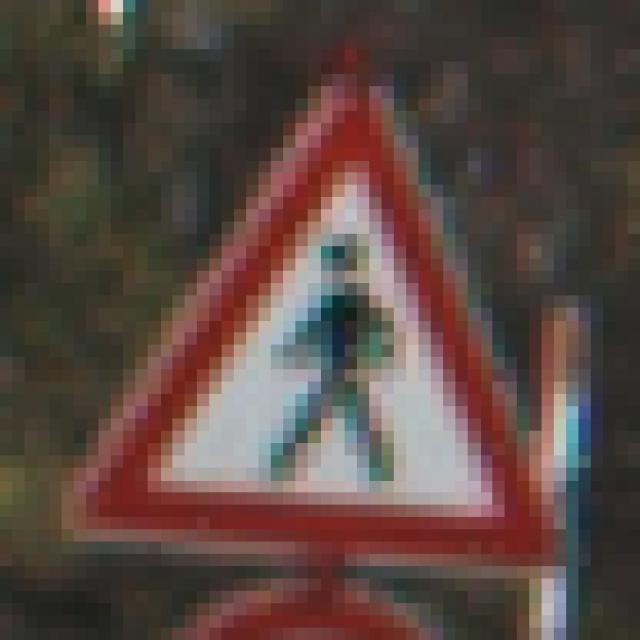Pedestrian Crossing: (74, 37, 578, 578)
